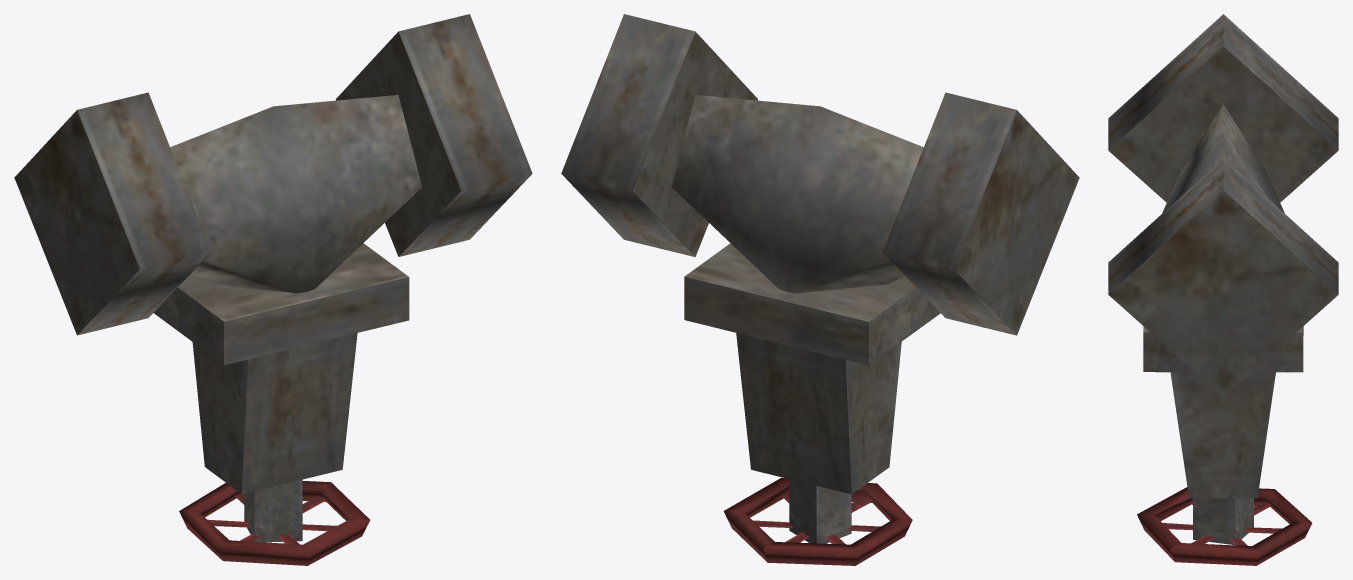
The model's file is nt_2020_pipes_modular_valve_LOD2.obj.
3 views of the same model, side by side, from view 1: azimuth 30°, elevation 25°; view 2: azimuth 150°, elevation 25°; view 3: azimuth 270°, elevation 25° (orthographic). The views are drawn at different scales.
Visible parts, largest first — view 1: mtl_nt_2020_pipes_modular_blue; view 2: mtl_nt_2020_pipes_modular_blue; view 3: mtl_nt_2020_pipes_modular_blue.
Boxes of the visible parts, <box> form: mtl_nt_2020_pipes_modular_blue: <box>14,14,532,565</box>; mtl_nt_2020_pipes_modular_blue: <box>561,14,1079,565</box>; mtl_nt_2020_pipes_modular_blue: <box>1108,14,1338,565</box>.
Size of the model in its own units: 94.39 by 108 by 52.22.
